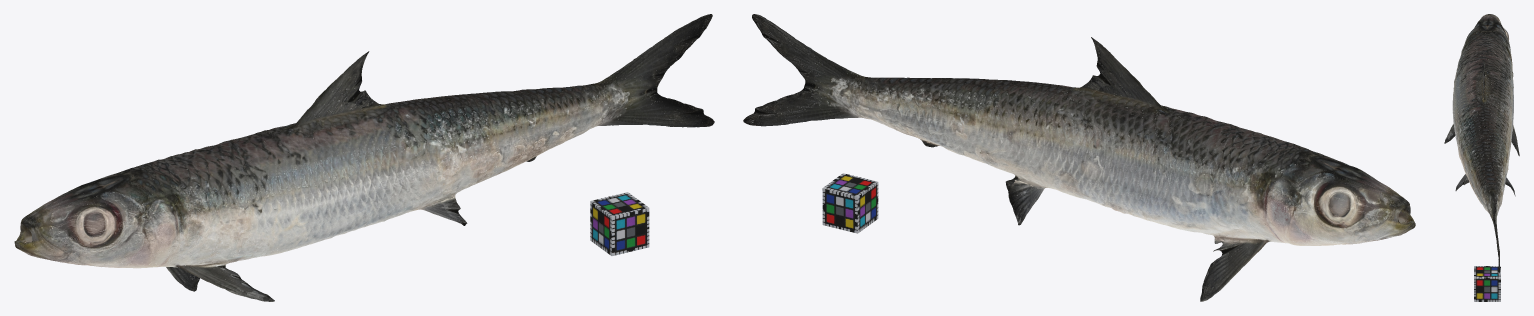
The model's file is urumeiwashi.glb.
The picture shows the model from 3 angles, left to right: view 1: azimuth 30°, elevation 25°; view 2: azimuth 150°, elevation 25°; view 3: azimuth 270°, elevation 25°; orthographic projection. The views are drawn at different scales.
Visible parts, largest first — view 1: Q11655-1all_5, Cube_2; view 2: Q11655-1all_5, Cube_2; view 3: Q11655-1all_5, Cube_2.
Part boxes in pixels (x1=…): Q11655-1all_5: x1=14, y1=14, x2=714, y2=301; Cube_2: x1=590, y1=192, x2=649, y2=255; Q11655-1all_5: x1=743, y1=14, x2=1415, y2=301; Cube_2: x1=822, y1=173, x2=878, y2=233; Q11655-1all_5: x1=1444, y1=14, x2=1519, y2=273; Cube_2: x1=1474, y1=266, x2=1500, y2=301.
Size of the model in its own units: 11.14 by 3.86 by 1.66.
2 materials, 2 textured.
